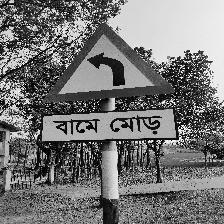Left-Turn: (40, 23, 179, 144)
